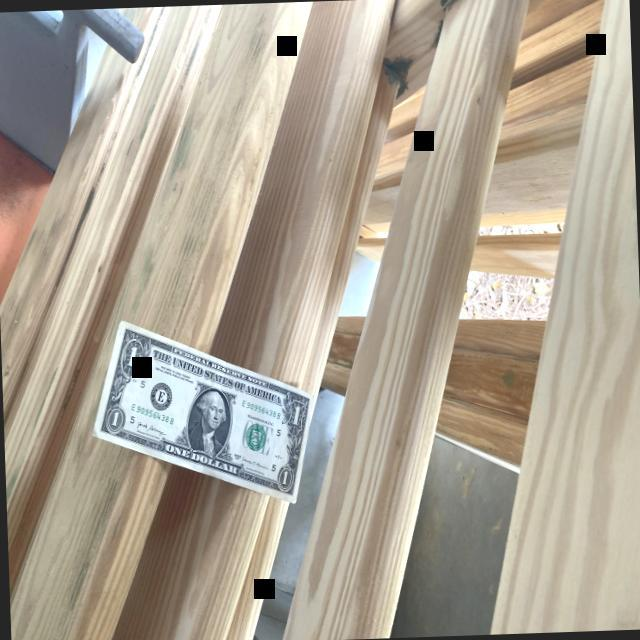one: (92, 318, 314, 503)
